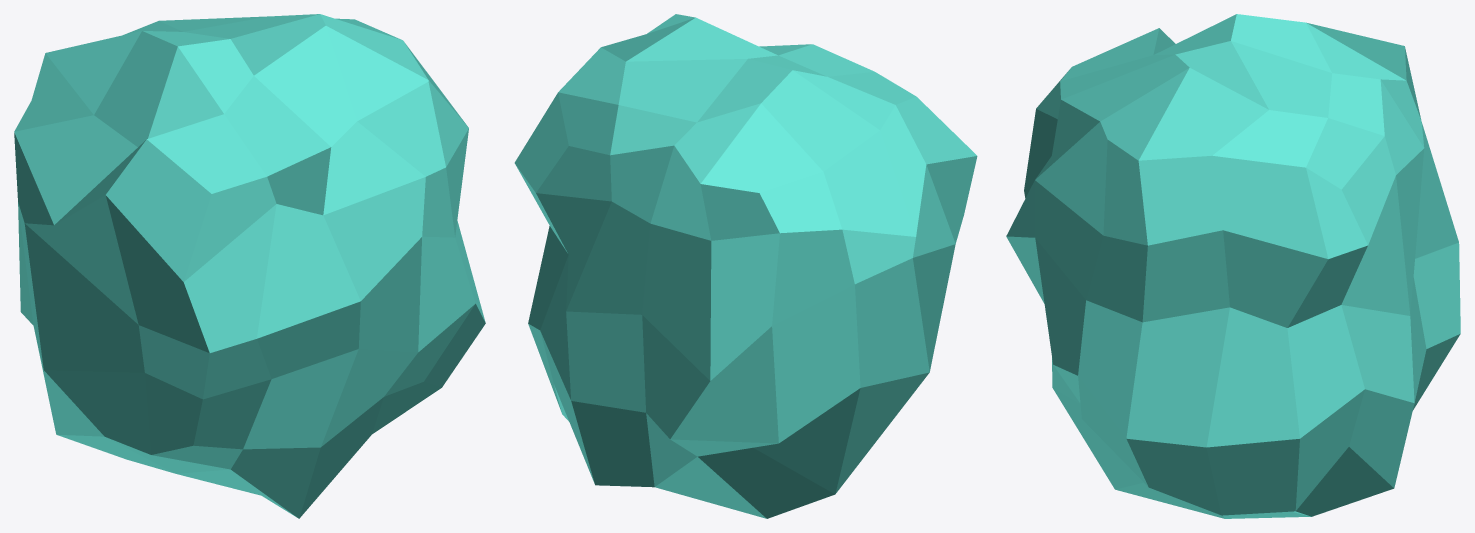
The model's file is Astroid 3.fbx.
3 renders of one model, left to right at view 1: azimuth 30°, elevation 25°; view 2: azimuth 150°, elevation 25°; view 3: azimuth 270°, elevation 25°, orthographic. The views are drawn at different scales.
Visible parts, largest first — view 1: Asdtroid 3; view 2: Asdtroid 3; view 3: Asdtroid 3.
Part boxes in pixels (x1,y1,x2,y2): Asdtroid 3: (14, 14, 485, 518); Asdtroid 3: (514, 14, 977, 518); Asdtroid 3: (1006, 14, 1460, 518).
Size of the model in its own units: 45.01 by 49.38 by 42.89.
